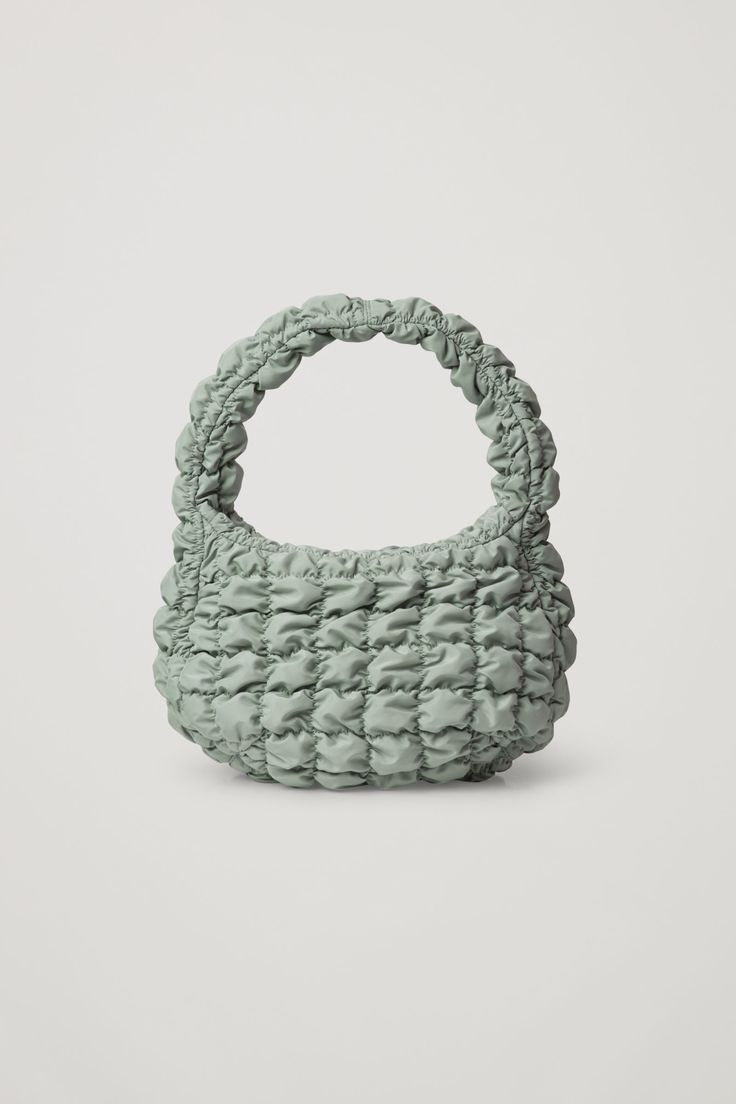nylon: (151, 292, 578, 793)
